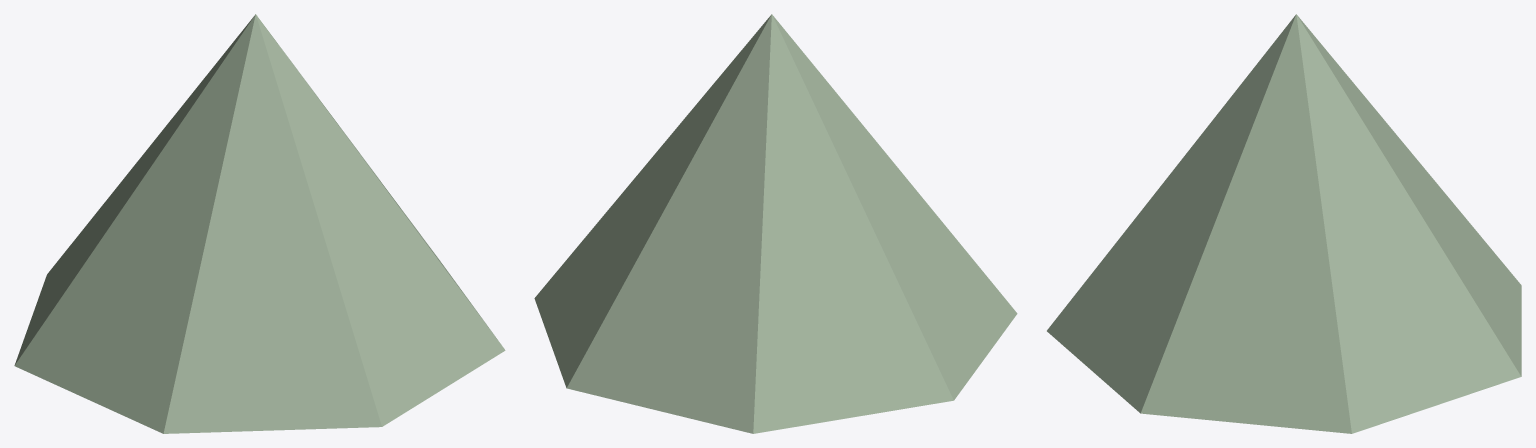
Rendered from hill-a5b7a0.glb.
3 renders of one model, left to right at view 1: azimuth 30°, elevation 25°; view 2: azimuth 150°, elevation 25°; view 3: azimuth 270°, elevation 25°, orthographic.
Parts seen in each view (by area): view 1: hill-a5b7a0; view 2: hill-a5b7a0; view 3: hill-a5b7a0.
Part boxes in pixels (left/top/right/bottom): hill-a5b7a0: left=14, top=14, right=505, bottom=433; hill-a5b7a0: left=534, top=14, right=1017, bottom=433; hill-a5b7a0: left=1047, top=14, right=1521, bottom=433.
Bounding box in the file's own units: 1.95 × 1.4 × 1.9.
